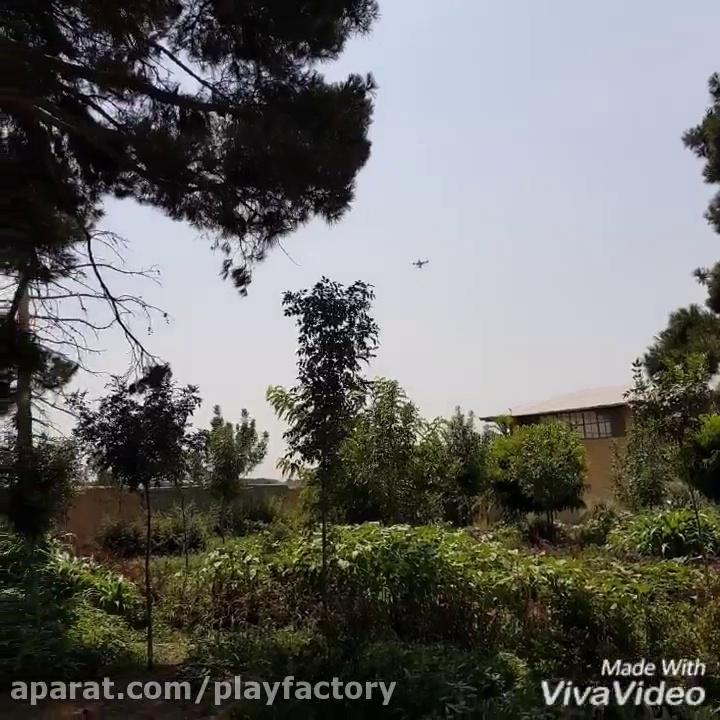drone: (408, 257, 431, 272)
